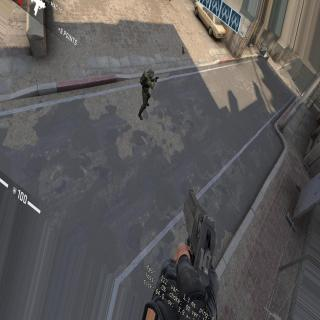CT-Body: (141, 66, 156, 116)
CT-Head: (148, 67, 154, 78)
